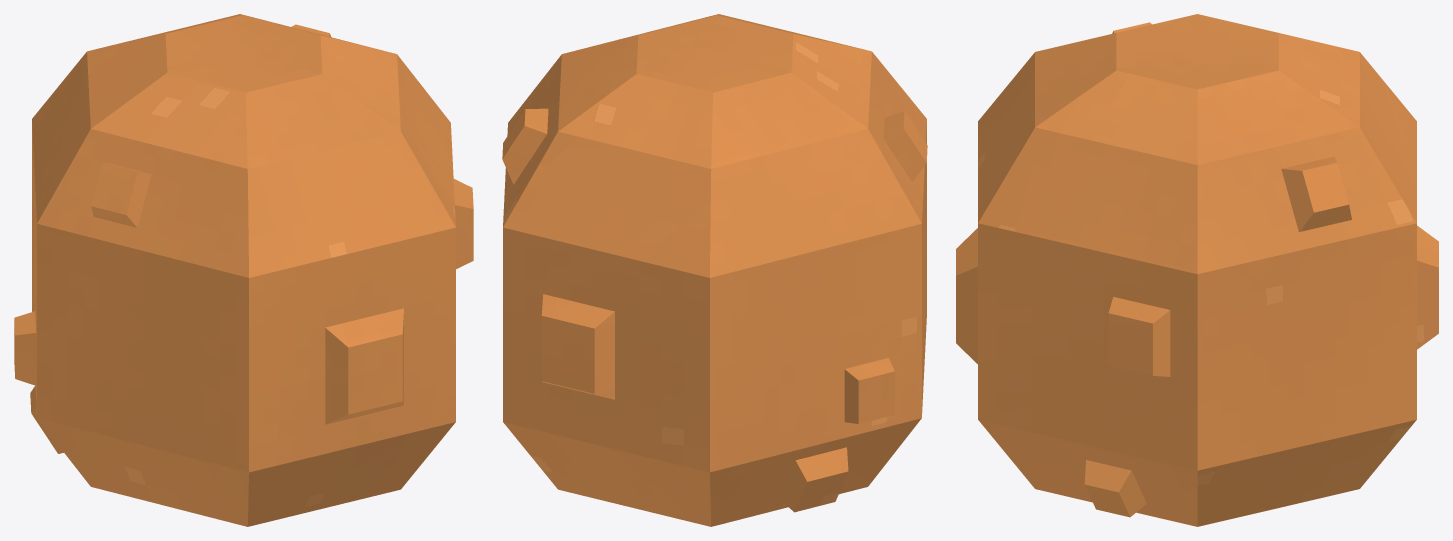
Rendered from item_artifactWarmer.glb.
The picture shows the model from 3 angles, left to right: view 1: azimuth 30°, elevation 25°; view 2: azimuth 150°, elevation 25°; view 3: azimuth 270°, elevation 25°; orthographic projection.
Visible parts, largest first — view 1: Donor_space-meteor_detailed_0; view 2: Donor_space-meteor_detailed_0; view 3: Donor_space-meteor_detailed_0.
Boxes of the visible parts, x1,y1,x2,y2 form: Donor_space-meteor_detailed_0: (14,14,473,526); Donor_space-meteor_detailed_0: (502,14,927,526); Donor_space-meteor_detailed_0: (956,14,1438,526).
Bounding box in the file's own units: 0.25 × 0.25 × 0.25.
1 material, 1 textured.
